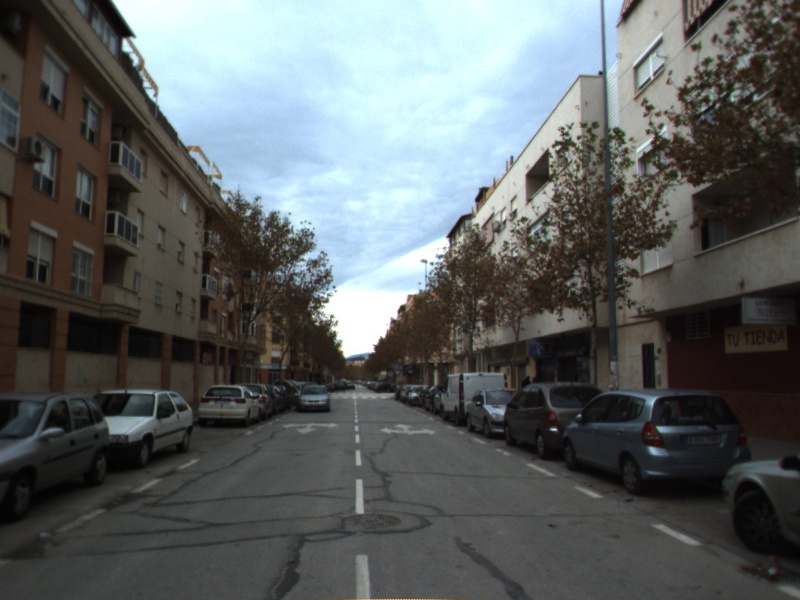STRAIGHT_LEFT_RIGHT: (378, 421, 438, 437)
